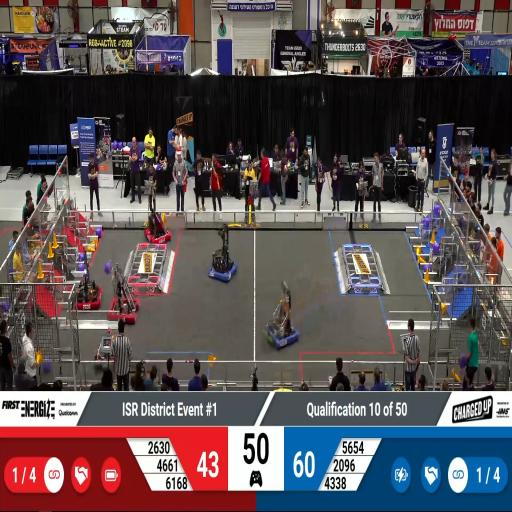robot: (262, 302, 300, 350), (108, 280, 142, 324), (208, 236, 239, 284), (93, 328, 118, 373), (76, 274, 103, 312), (144, 212, 171, 248)
